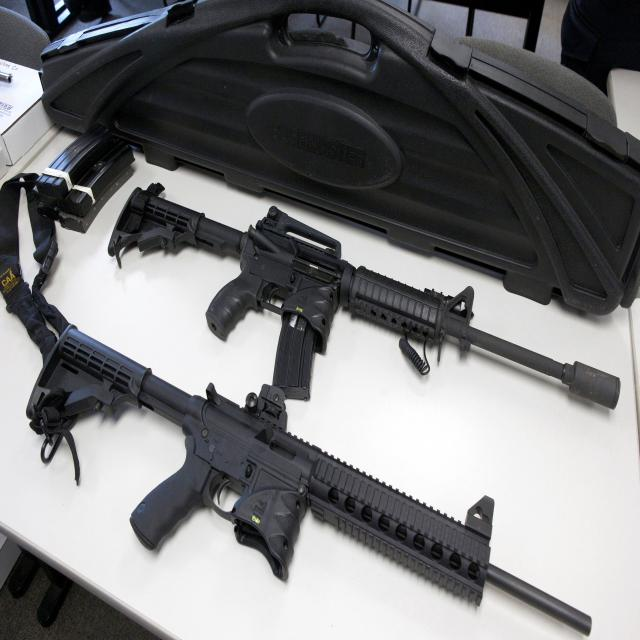Rifle: (27, 329, 594, 635), (106, 183, 621, 409)
